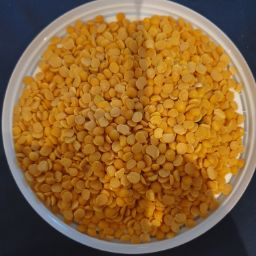Pigeon Pea(toor daal): (22, 13, 256, 256), (52, 49, 180, 256), (83, 55, 218, 188)
